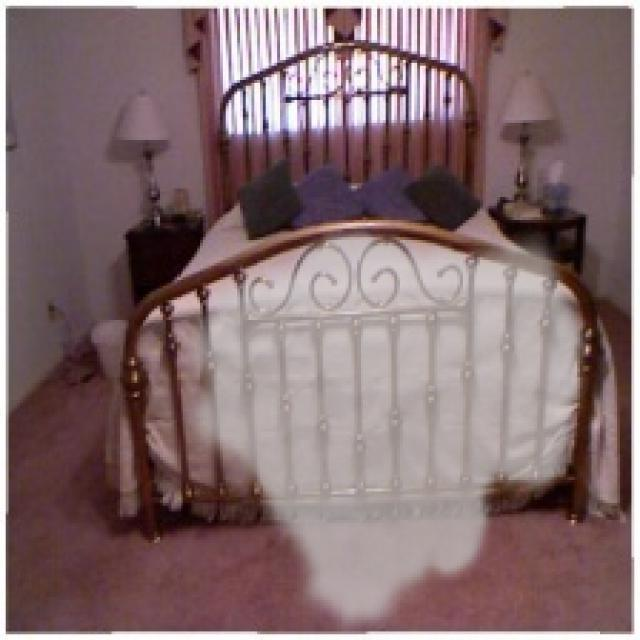Smoke: (177, 222, 594, 638)
